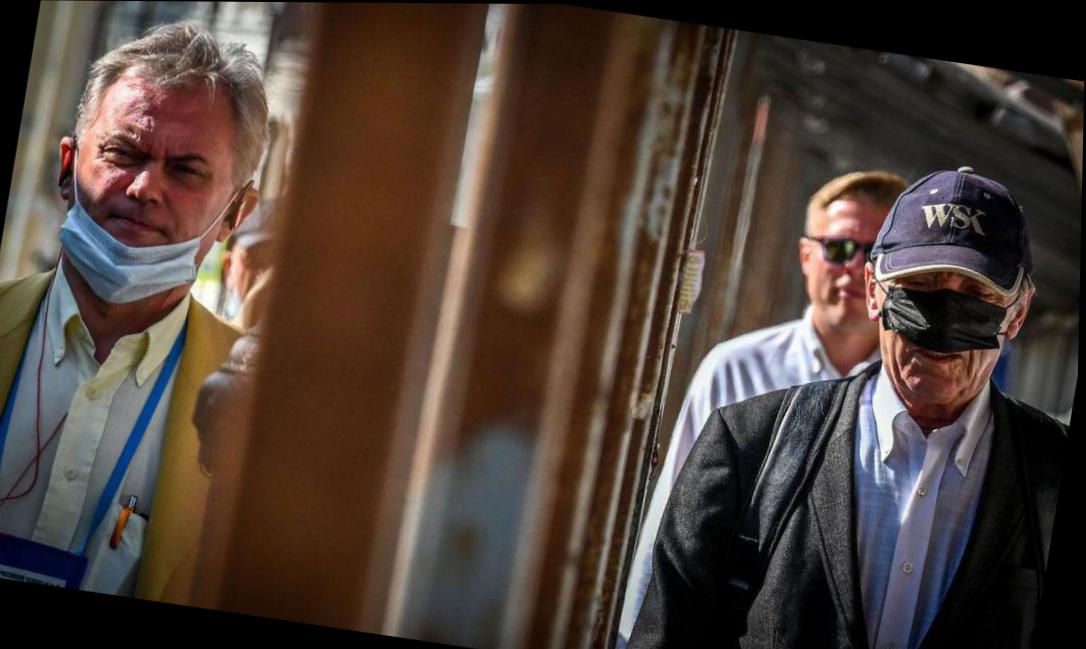NONE: (794, 205, 903, 338)
WRONG: (58, 97, 242, 309), (876, 256, 1018, 405)
